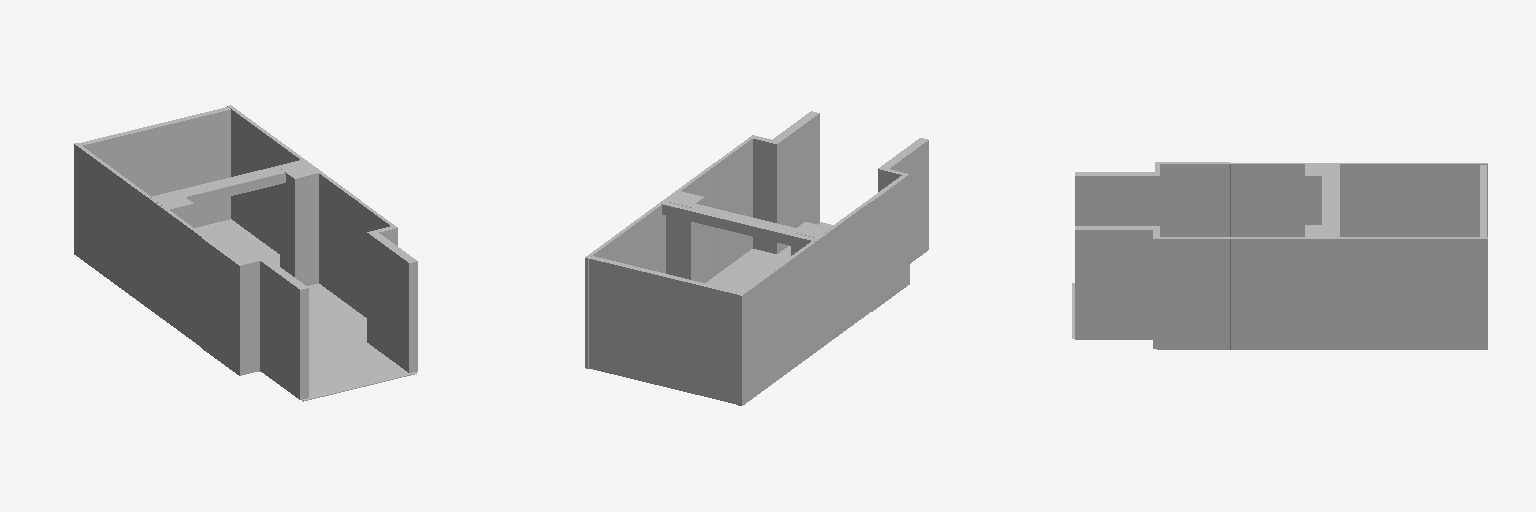
File: gallary.obj
The picture shows the model from 3 angles: view 1: azimuth 30°, elevation 25°; view 2: azimuth 150°, elevation 25°; view 3: azimuth 270°, elevation 25°; orthographic projection.
Parts seen in each view (by area): view 1: Cube.009, Cube.003, Cube.008, Cube.011, Cube.005, Cube.004, Cube.006, Cube.010, Cube.007; view 2: Cube.011, Cube.009, Cube.004, Cube.003, Cube.008, Cube.006, Cube.010, Cube.005; view 3: Cube.008, Cube.004, Cube.009, Cube.003, Cube.007, Cube.010.
Part boxes in pixels (x1,y1,x2,y2): Cube.009: (74,143,205,347); Cube.003: (202,237,308,399); Cube.008: (227,105,359,309); Cube.011: (79,107,230,227); Cube.005: (195,219,416,401); Cube.004: (356,200,417,372); Cube.006: (280,162,320,285); Cube.010: (149,160,311,204); Cube.007: (154,193,193,227); Cube.011: (589,256,741,404); Cube.009: (738,201,870,405); Cube.004: (715,111,819,273); Cube.003: (868,138,928,311); Cube.008: (585,163,716,368); Cube.006: (665,191,704,282); Cube.010: (660,197,822,247); Cube.005: (706,222,832,291); Cube.008: (1230,237,1487,349); Cube.004: (1075,226,1229,348); Cube.009: (1230,163,1487,236); Cube.003: (1075,162,1229,236); Cube.007: (1305,163,1332,224); Cube.010: (1322,163,1339,238).
Bounding box in the file's own units: 4.28 × 2.87 × 9.76.